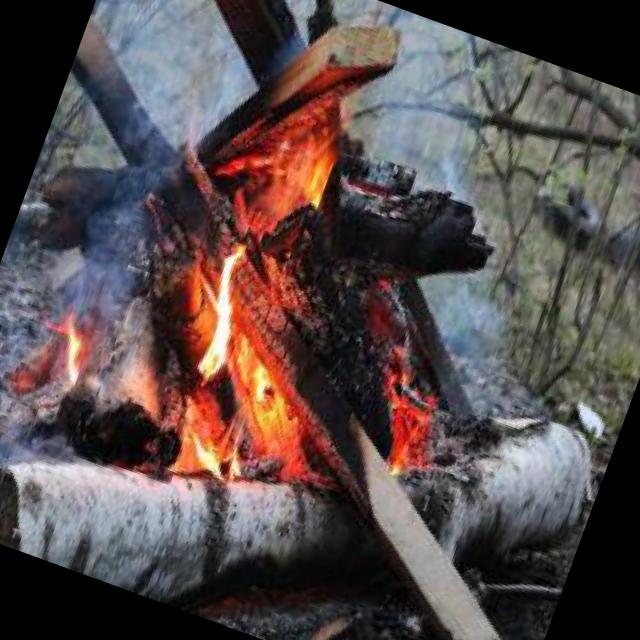fire: (153, 238, 270, 414), (175, 386, 288, 524), (273, 104, 383, 240), (29, 303, 106, 411)
smoke: (0, 70, 213, 549), (362, 123, 598, 432)
